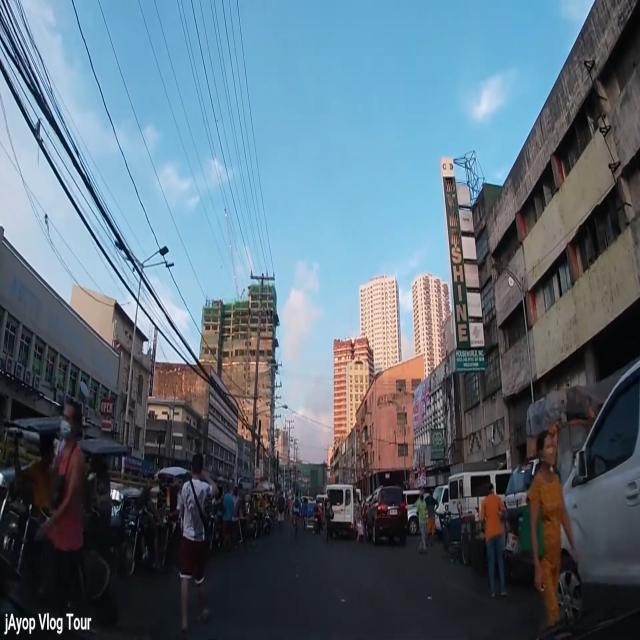bike: (290, 493, 300, 538)
car: (558, 346, 640, 634), (364, 484, 404, 546)
motorcycle: (313, 498, 322, 534)
tricycle: (0, 414, 67, 606), (107, 474, 159, 578), (148, 465, 192, 566), (245, 488, 262, 542), (300, 497, 316, 530)
truck: (504, 420, 591, 540), (448, 468, 508, 540), (324, 484, 354, 541)
